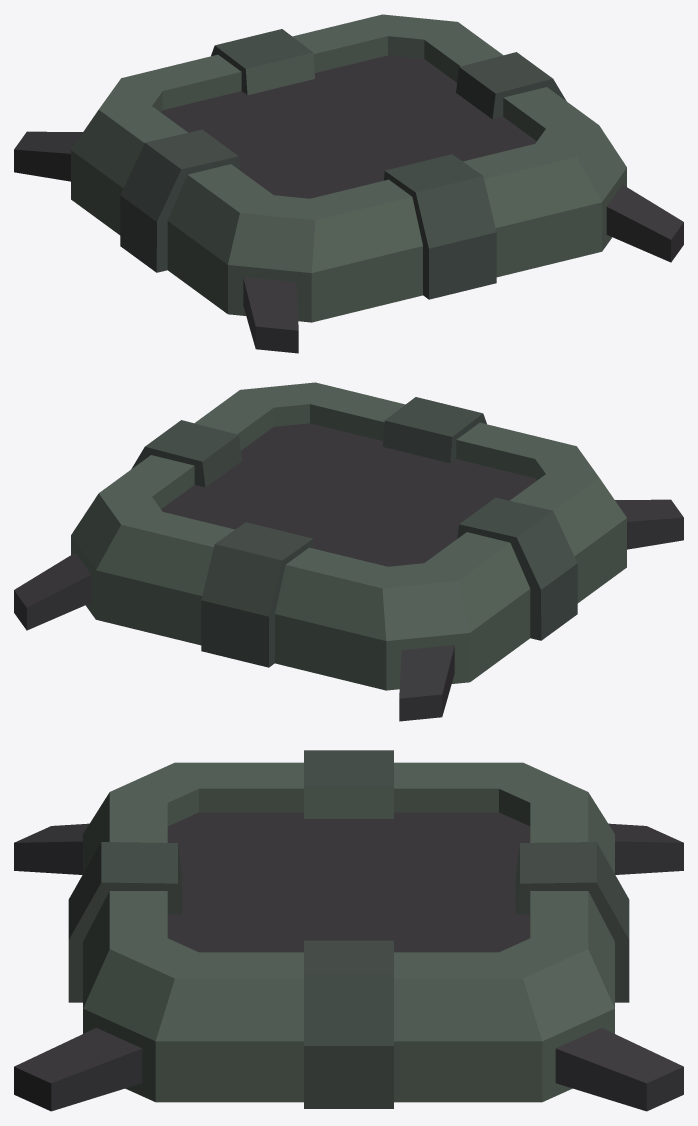
Rendered from mesh_turret_1_speedbase.fbx.
3 renders of one model, top to bottom at view 1: azimuth 30°, elevation 25°; view 2: azimuth 150°, elevation 25°; view 3: azimuth 270°, elevation 25°, orthographic. The views are drawn at different scales.
Parts seen in each view (by area): view 1: tur_1_speed_base; view 2: tur_1_speed_base; view 3: tur_1_speed_base.
Boxes of the visible parts, bbox=[...] form: tur_1_speed_base: bbox=[14, 14, 683, 353]; tur_1_speed_base: bbox=[14, 382, 683, 721]; tur_1_speed_base: bbox=[14, 750, 683, 1111].
Bounding box in the file's own units: 1.96 × 0.4278 × 2.15.
